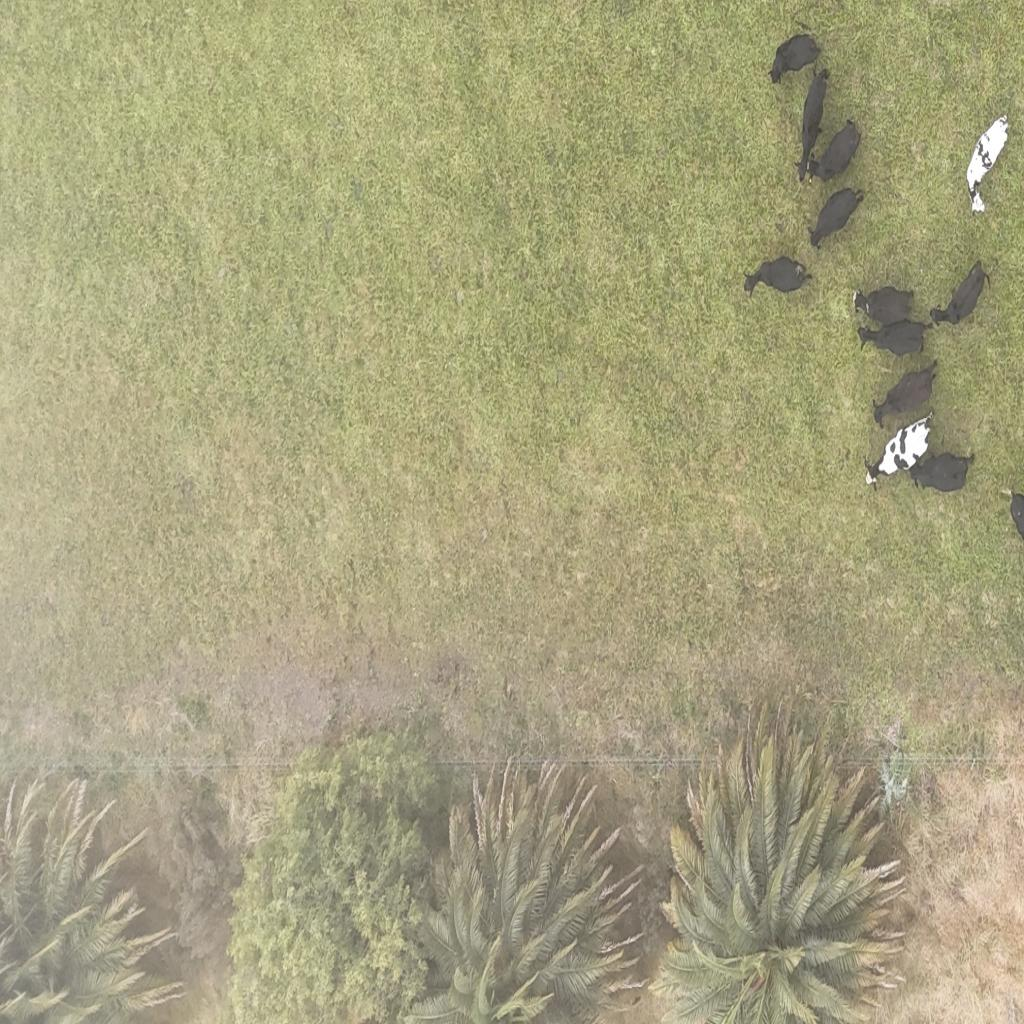cow: (864, 412, 931, 487), (871, 362, 938, 429), (926, 261, 990, 331), (966, 114, 1009, 214), (806, 114, 862, 189), (794, 66, 828, 183), (806, 186, 864, 250), (768, 30, 823, 86), (905, 450, 976, 493), (857, 319, 928, 360), (743, 256, 812, 298), (854, 285, 917, 327)
